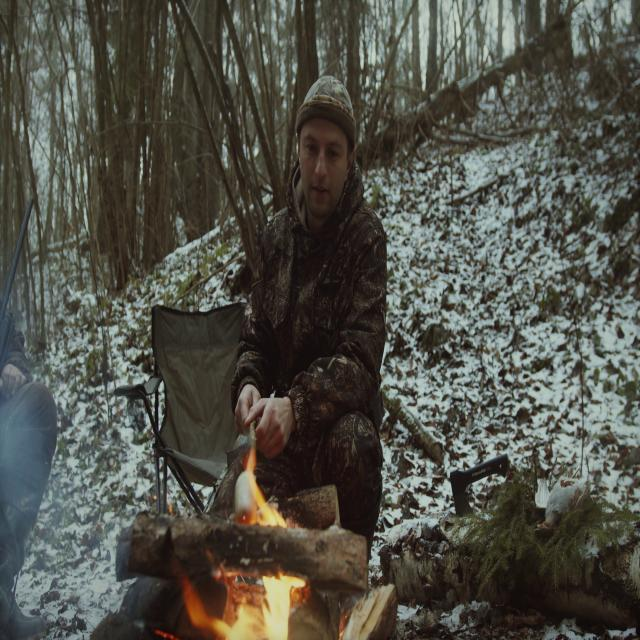Fire: (178, 484, 308, 640)
